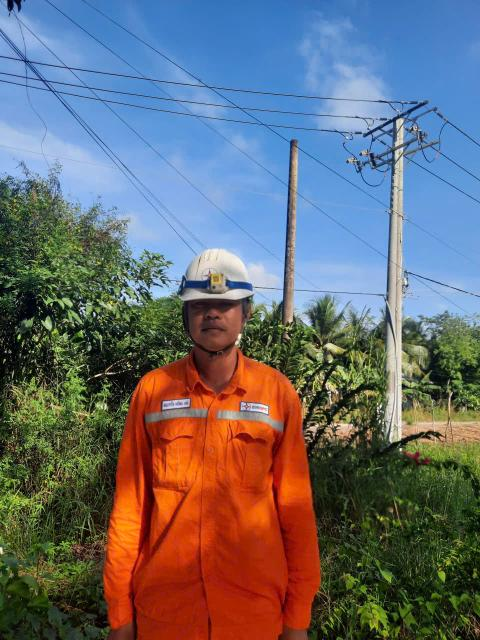helmet: (158, 238, 272, 307)
